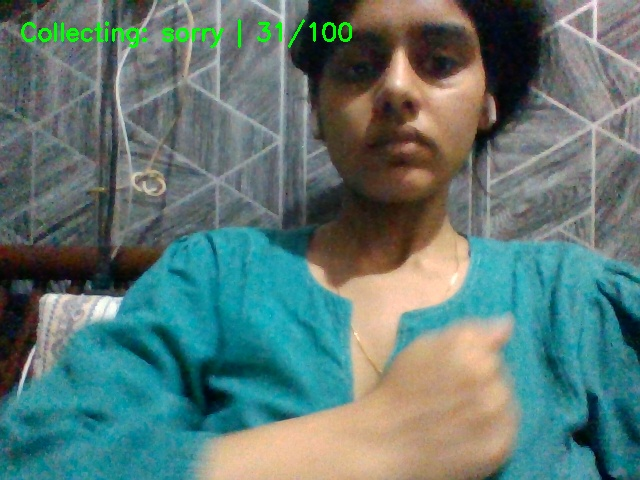sorry: (333, 302, 559, 480)
